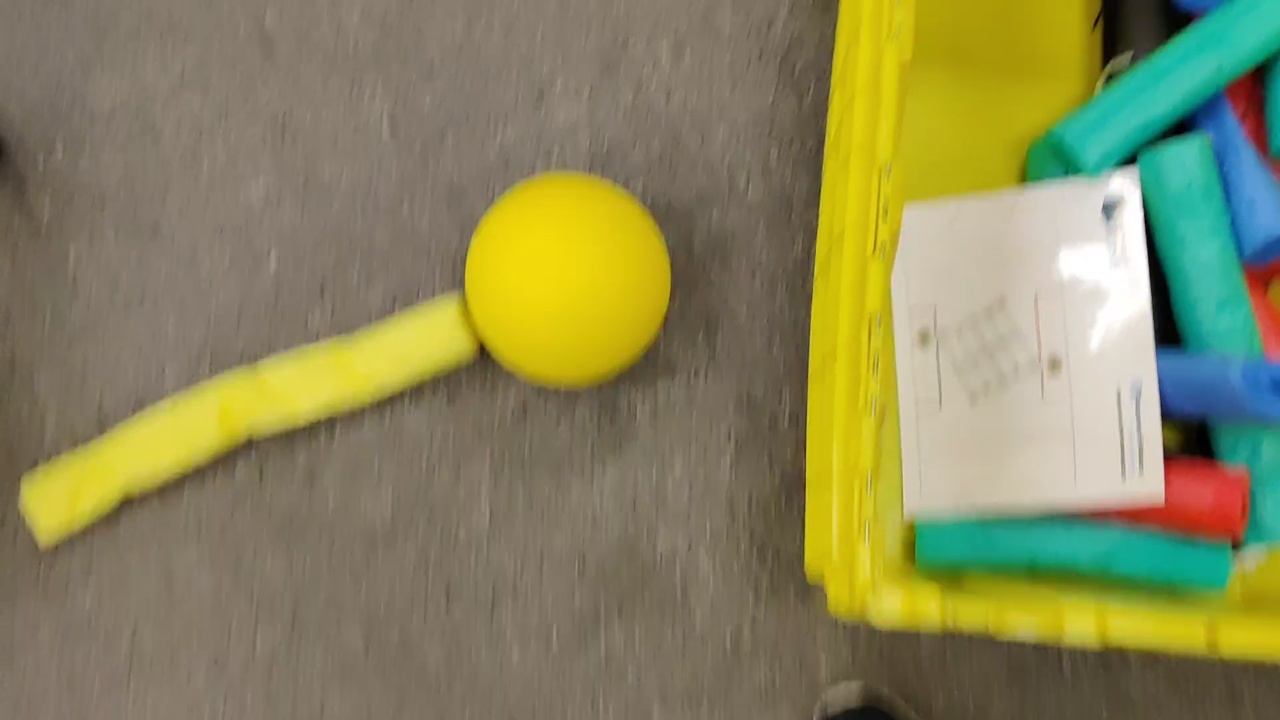Ball: (463, 173, 675, 383)
